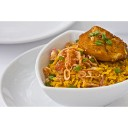briyani: (64, 26, 128, 85)
